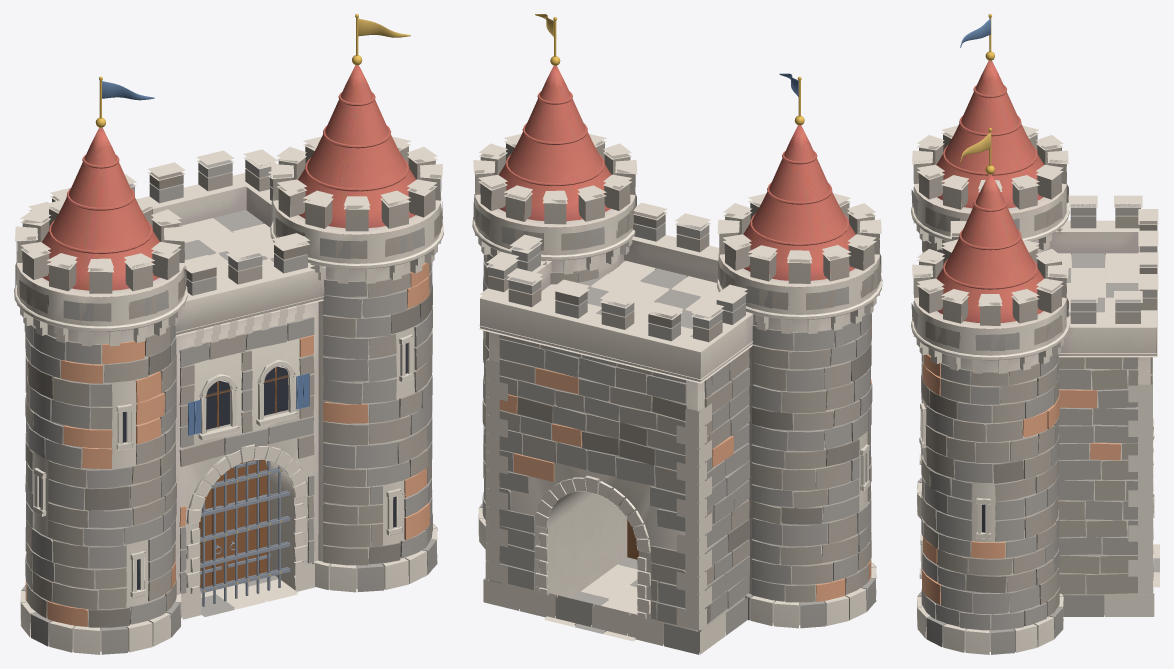
The picture shows the model from 3 angles, left to right: view 1: azimuth 30°, elevation 25°; view 2: azimuth 150°, elevation 25°; view 3: azimuth 270°, elevation 25°; orthographic projection. The views are drawn at different scales.
Parts seen in each view (by area): view 1: gatehouse_stonework, gatehouse_body, gatehouse_masonry, gatehouse_details, gatehouse_trim, gatehouse_portcullis, gatehouse_gate_right, gatehouse_gate_left; view 2: gatehouse_stonework, gatehouse_masonry, gatehouse_body, gatehouse_trim, gatehouse_details; view 3: gatehouse_stonework, gatehouse_masonry, gatehouse_body, gatehouse_trim, gatehouse_details.
Part boxes in pixels (x1,y1,x2,y2): gatehouse_stonework: [24, 262, 432, 627]; gatehouse_body: [17, 65, 440, 651]; gatehouse_masonry: [15, 136, 442, 654]; gatehouse_details: [33, 334, 414, 598]; gatehouse_trim: [14, 14, 443, 331]; gatehouse_portcullis: [200, 460, 290, 606]; gatehouse_gate_right: [226, 459, 270, 581]; gatehouse_gate_left: [199, 474, 223, 587]; gatehouse_stonework: [482, 254, 872, 624]; gatehouse_masonry: [473, 134, 881, 654]; gatehouse_body: [475, 65, 879, 644]; gatehouse_trim: [472, 14, 882, 319]; gatehouse_details: [535, 444, 870, 619]; gatehouse_stonework: [921, 240, 1152, 630]; gatehouse_masonry: [911, 125, 1159, 654]; gatehouse_body: [914, 60, 1156, 651]; gatehouse_trim: [911, 14, 1069, 360]; gatehouse_details: [919, 403, 1154, 592].
Bounding box in the file's own units: 13.34 × 17.04 × 7.76.
Materials: 14 (1 with a texture image).
